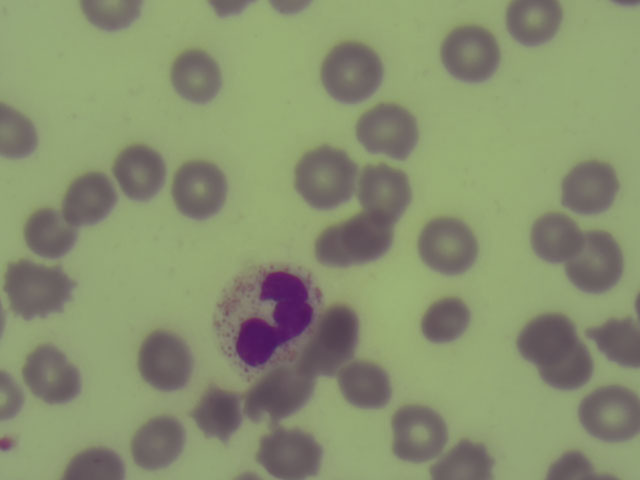Platelets: (1, 431, 16, 456)
RBC: (4, 260, 77, 316), (247, 365, 316, 418), (309, 302, 356, 375), (259, 427, 326, 476), (516, 310, 576, 357), (419, 296, 473, 348), (420, 219, 474, 271), (586, 311, 640, 363), (582, 384, 636, 436), (540, 340, 594, 392), (567, 236, 621, 288), (563, 162, 617, 214), (321, 214, 375, 266), (359, 163, 413, 215), (297, 147, 351, 199), (390, 405, 444, 457), (338, 357, 392, 409), (190, 389, 244, 441), (131, 415, 185, 467), (139, 337, 193, 389), (24, 349, 78, 401), (59, 171, 113, 223), (169, 163, 223, 215), (113, 144, 167, 196), (362, 103, 416, 155), (445, 28, 499, 80), (324, 46, 378, 98), (169, 50, 223, 102), (63, 440, 127, 480), (23, 210, 77, 257), (437, 440, 497, 480), (509, 1, 562, 46), (1, 101, 38, 161), (541, 445, 604, 480), (532, 213, 579, 259), (81, 1, 144, 29)
WBC: (215, 264, 318, 375)
